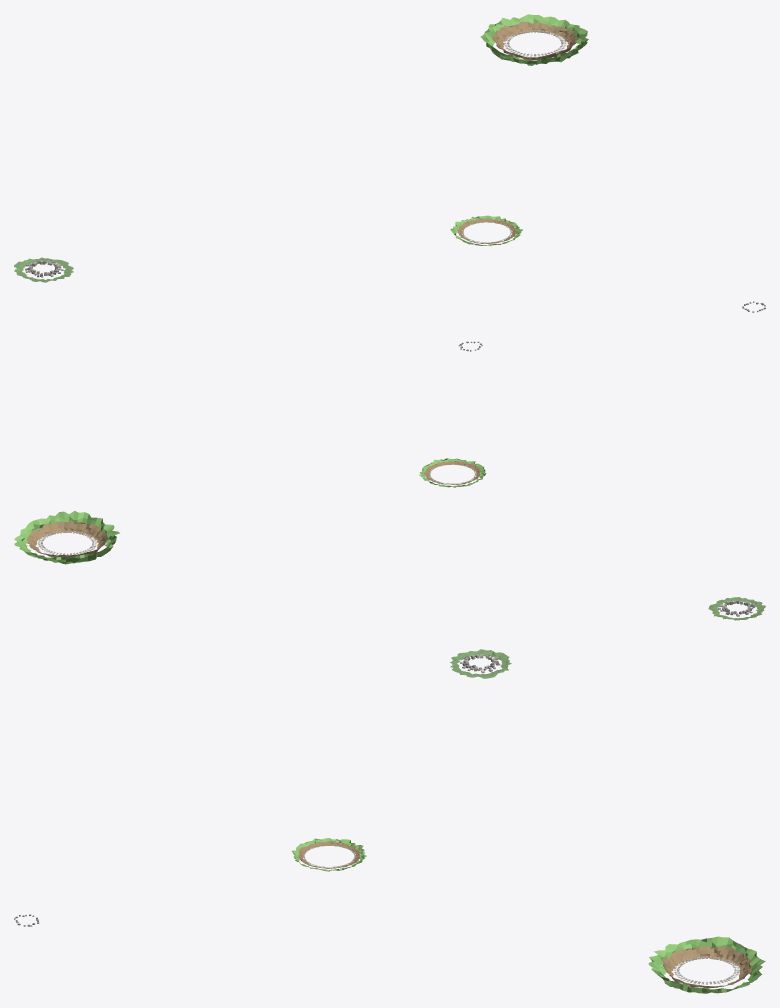
The model's file is foundations.glb.
3 views of the same model, one above another, from view 1: azimuth 30°, elevation 25°; view 2: azimuth 150°, elevation 25°; view 3: azimuth 270°, elevation 25° (orthographic). The views are drawn at different scales.
Parts seen in each view (by area): view 1: Foundation_Grass, Foundation_Dirt, Foundation_Moss; view 2: Foundation_Grass, Foundation_Dirt, Foundation_Moss, Foundation_Stone; view 3: Foundation_Grass, Foundation_Dirt, Foundation_Moss, Foundation_Stone.
Boxes of the visible parts, x1,y1,x2,y2 form: Foundation_Grass: (450,14,588,246); Foundation_Dirt: (457,21,578,243); Foundation_Moss: (14,257,73,282); Foundation_Grass: (14,458,486,564); Foundation_Dirt: (26,461,480,557); Foundation_Moss: (708,597,765,620); Foundation_Stone: (40,341,754,616); Foundation_Grass: (292,838,765,993); Foundation_Dirt: (297,841,752,988); Foundation_Moss: (450,649,511,678); Foundation_Stone: (14,655,736,983).
Bounding box in the file's own units: 814 × 16.23 × 747.
